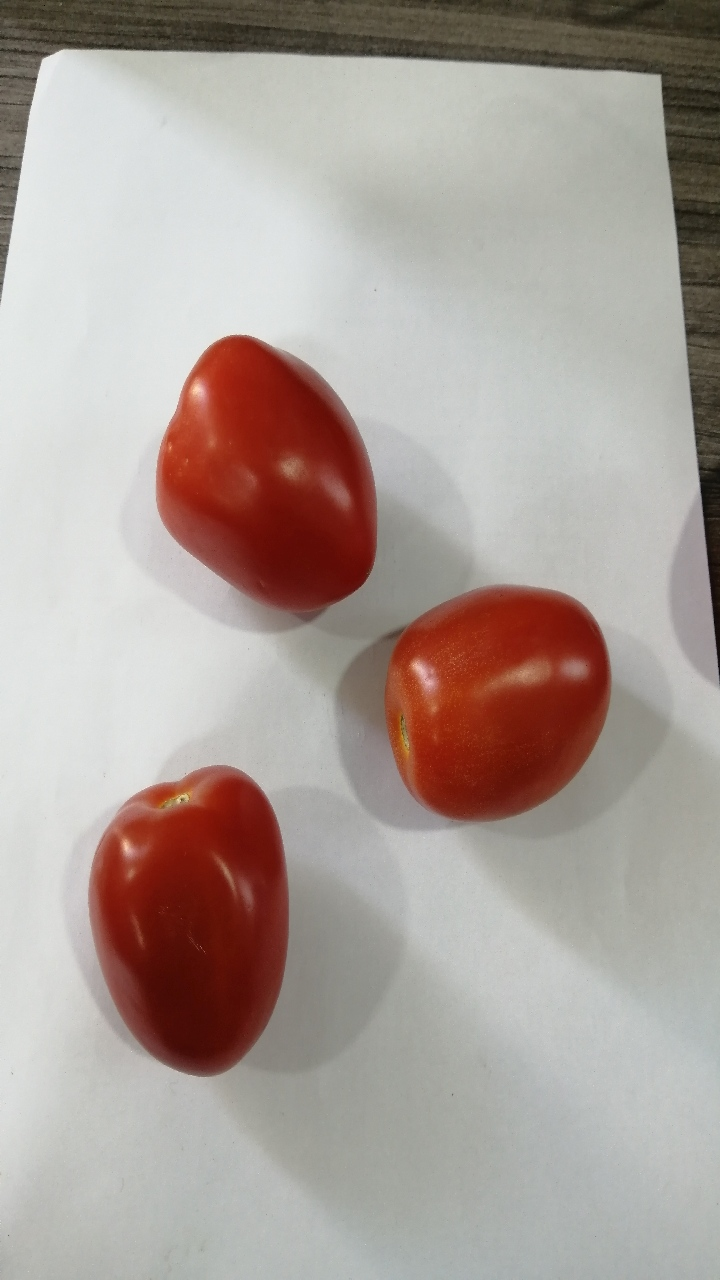tomateRojo: (38, 751, 312, 1097), (141, 322, 397, 620), (377, 559, 626, 842)
